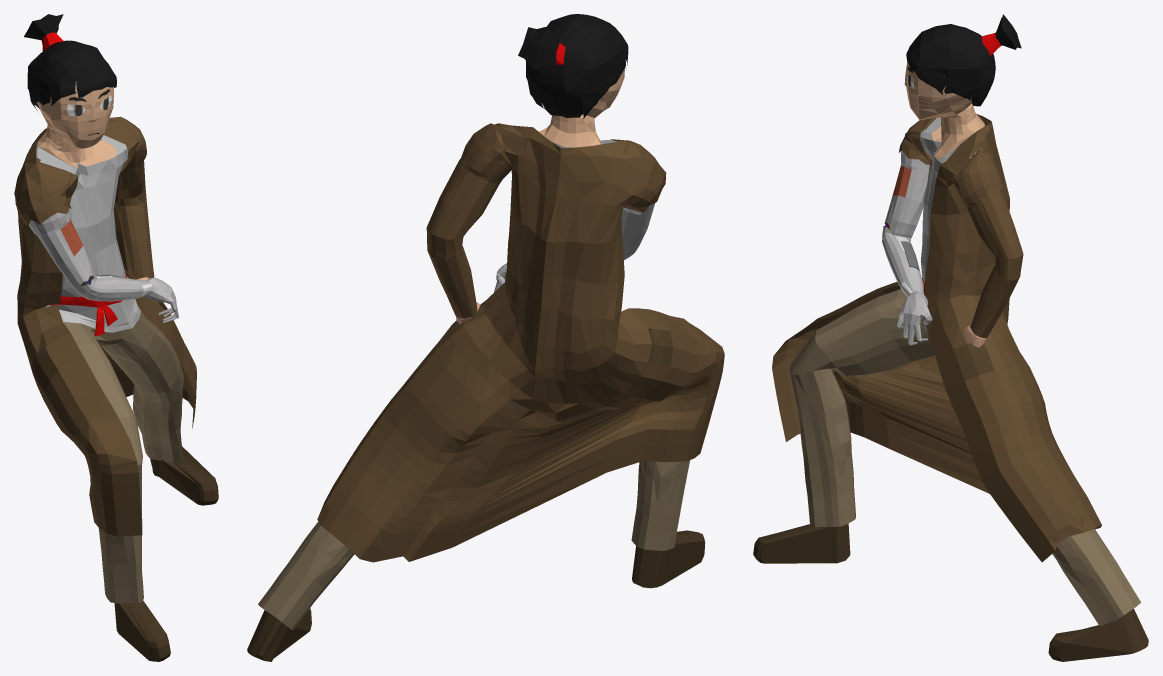
Rendered from One_RL_000011.obj.
3 renders of one model, left to right at view 1: azimuth 30°, elevation 25°; view 2: azimuth 150°, elevation 25°; view 3: azimuth 270°, elevation 25°, orthographic. The views are drawn at different scales.
Parts seen in each view (by area): view 1: Hair_Cube.004; view 2: Hair_Cube.004; view 3: Hair_Cube.004.
Boxes of the visible parts, <box> form: Hair_Cube.004: <box>14,14,218,661</box>; Hair_Cube.004: <box>247,14,724,661</box>; Hair_Cube.004: <box>753,14,1148,661</box>.
Bounding box in the file's own units: 1.7 × 3.45 × 2.26.
